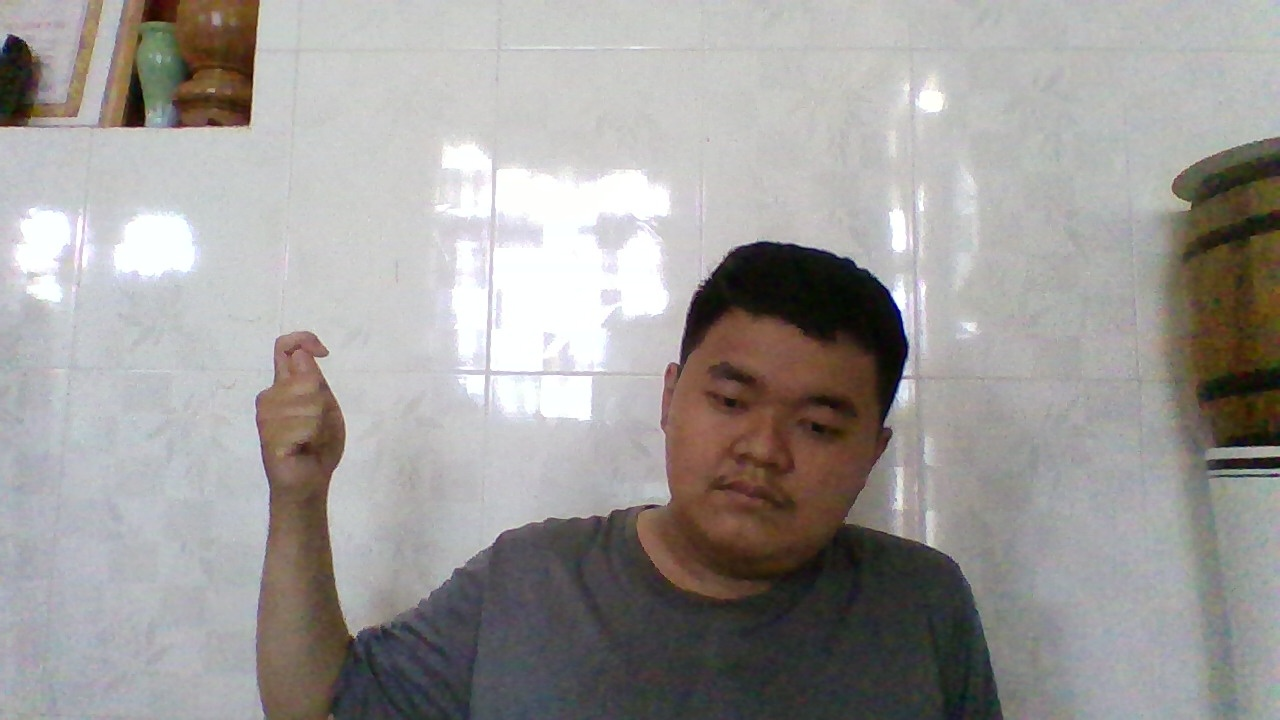X: (246, 320, 349, 507)
